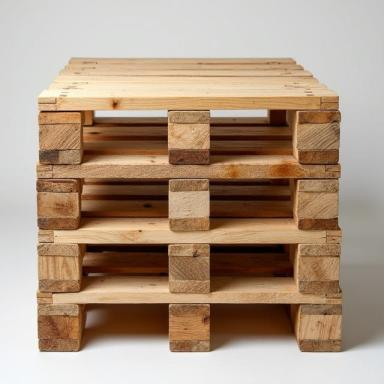pallet: (37, 57, 341, 164), (36, 164, 341, 230), (37, 229, 341, 293), (37, 292, 343, 352)
